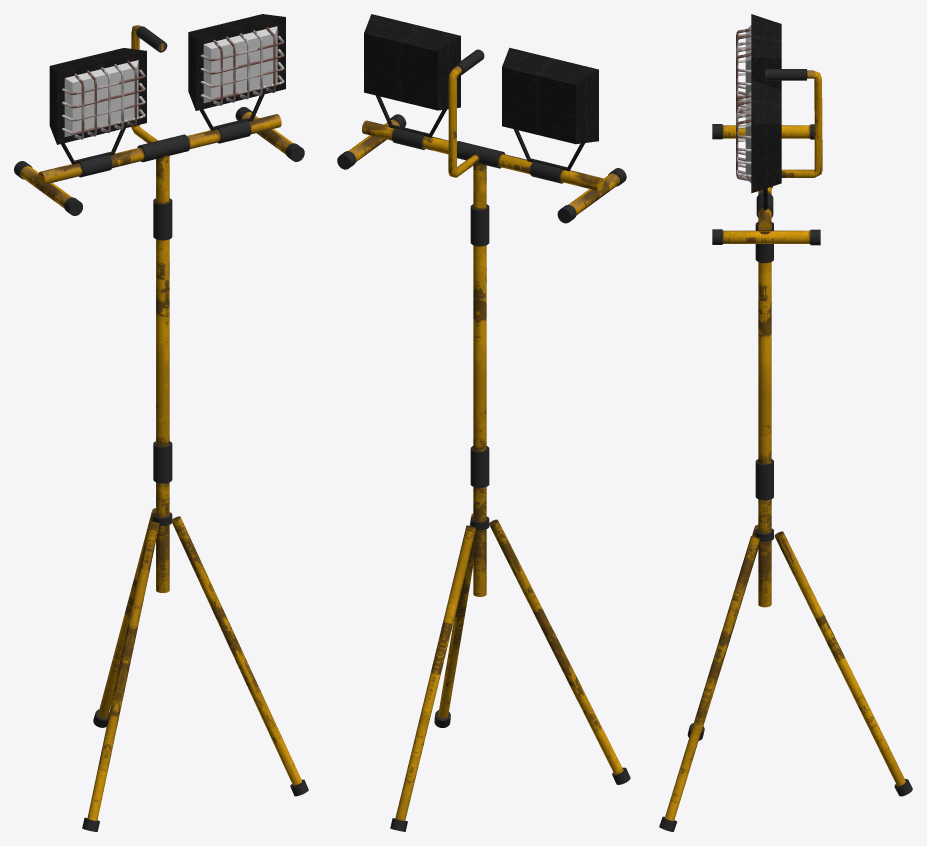
Rendered from HalogenLamp.FBX.
3 renders of one model, left to right at view 1: azimuth 30°, elevation 25°; view 2: azimuth 150°, elevation 25°; view 3: azimuth 270°, elevation 25°, orthographic. The views are drawn at different scales.
Visible parts, largest first — view 1: Line041; view 2: Line041; view 3: Line041.
Part boxes in pixels (box(x1,y1,x2,y2)): Line041: box(14, 14, 308, 831); Line041: box(337, 14, 630, 831); Line041: box(659, 14, 912, 831).
Size of the model in its own units: 12.37 by 36.85 by 11.73.
